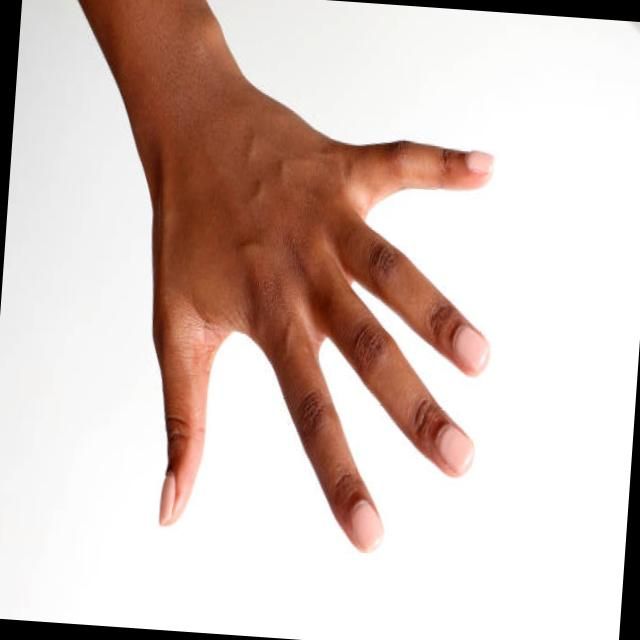Nail: (350, 499, 384, 553), (453, 325, 489, 371), (440, 427, 475, 474), (159, 473, 176, 525), (465, 150, 494, 174)
